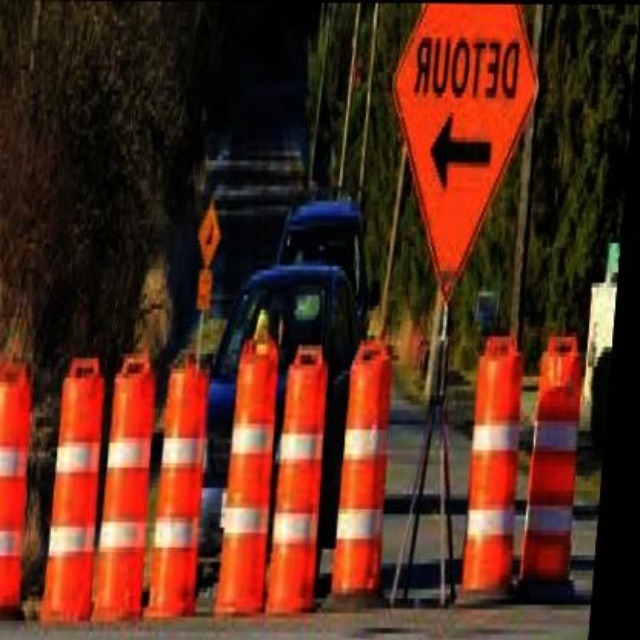obstacle: (223, 314, 295, 622), (271, 344, 344, 632), (526, 316, 600, 594), (96, 348, 167, 636), (51, 348, 121, 626), (467, 325, 535, 609), (153, 364, 226, 622), (340, 335, 402, 622), (0, 372, 42, 640)
